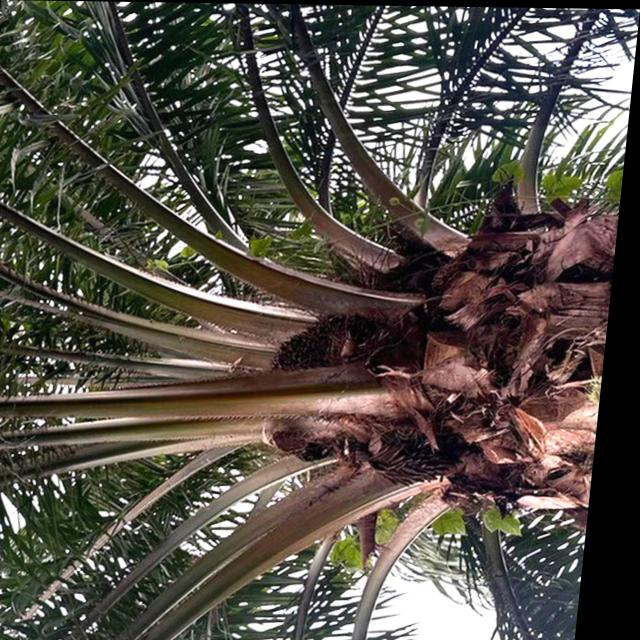ripe: (252, 298, 404, 476)
